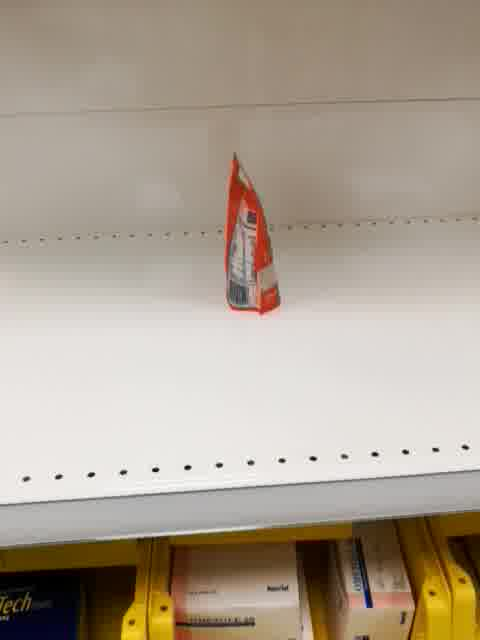whitechia: (222, 147, 282, 316)
